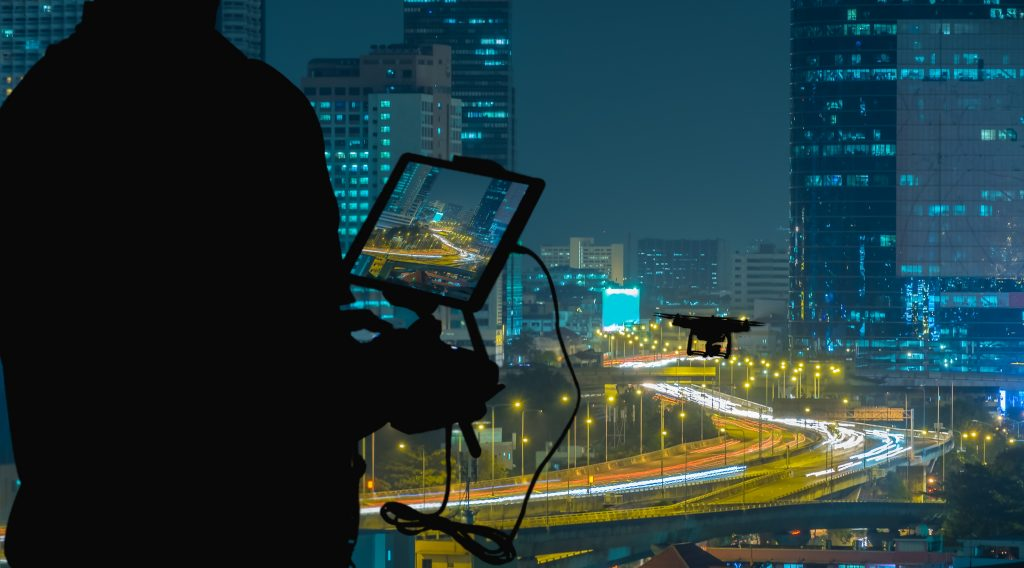drone: (647, 310, 771, 363)
person: (1, 1, 504, 568)
